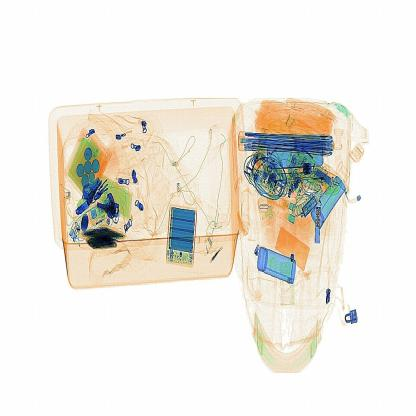wrench: (210, 245, 230, 272)
